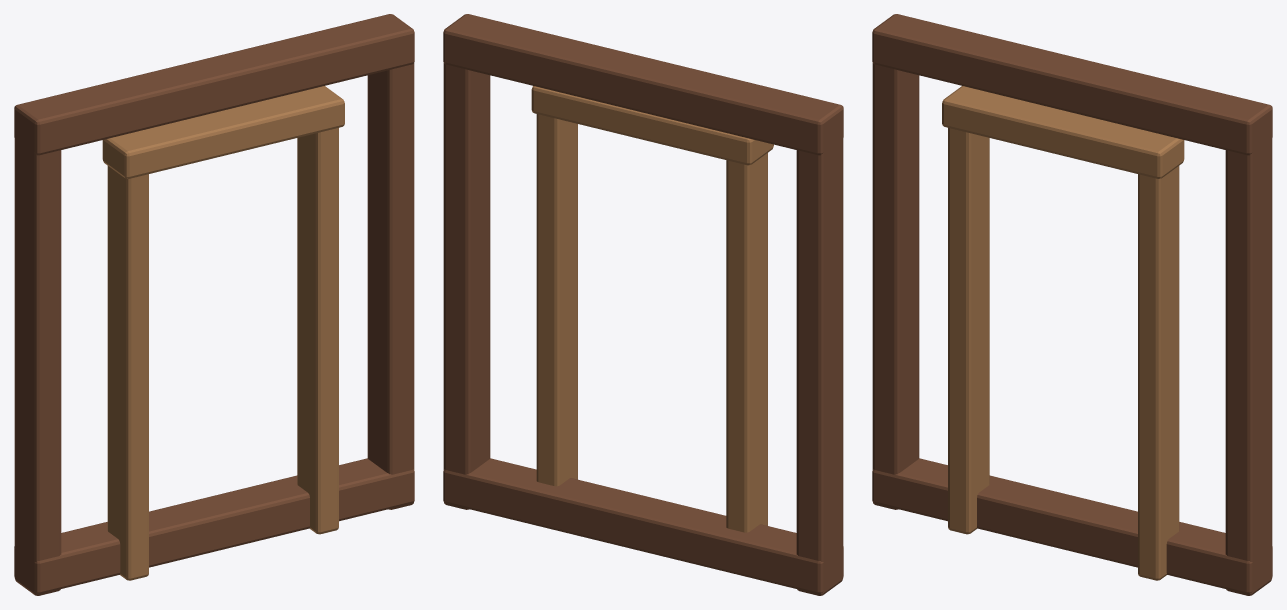
Rendered from wall_passage_2m__structure.glb.
The picture shows the model from 3 angles, left to right: view 1: azimuth 30°, elevation 25°; view 2: azimuth 150°, elevation 25°; view 3: azimuth 330°, elevation 25°; orthographic projection.
Visible parts, largest first — view 1: wall_passage_2m__structure__mesh_00; view 2: wall_passage_2m__structure__mesh_00; view 3: wall_passage_2m__structure__mesh_00.
Part boxes in pixels (bbox=[...]): wall_passage_2m__structure__mesh_00: bbox=[14, 14, 414, 595]; wall_passage_2m__structure__mesh_00: bbox=[443, 14, 843, 595]; wall_passage_2m__structure__mesh_00: bbox=[872, 14, 1272, 595].
Bounding box in the file's own units: 2 × 2.4 × 0.31.
